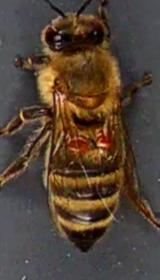varroa_mite: (92, 126, 114, 152), (65, 131, 88, 153)
